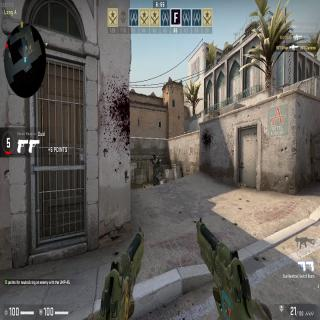T-Body: (152, 153, 160, 185)
T-Head: (152, 153, 156, 159)
